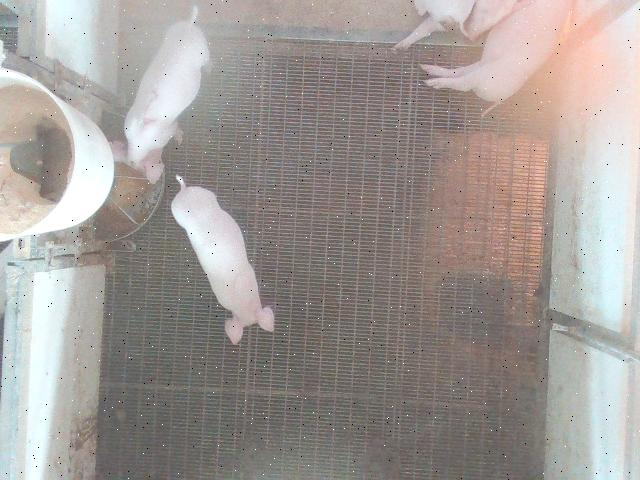pig-5: (111, 7, 209, 184)
